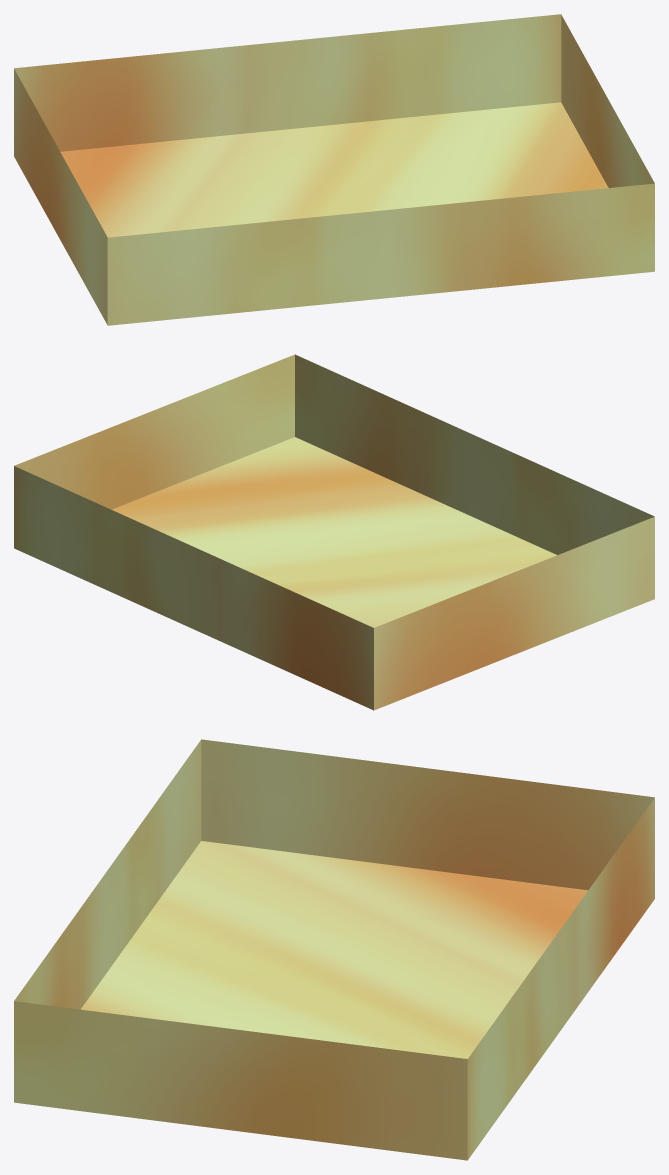
The model's file is Island_2_Block_Lat.gltf.
3 views of the same model, one above another, from view 1: azimuth 30°, elevation 25°; view 2: azimuth 150°, elevation 25°; view 3: azimuth 270°, elevation 25° (orthographic). The views are drawn at different scales.
Parts seen in each view (by area): view 1: Island_2_Block_Lat; view 2: Island_2_Block_Lat; view 3: Island_2_Block_Lat.
Part boxes in pixels (box(x1,y1,x2,y2)): Island_2_Block_Lat: box(14, 14, 654, 325); Island_2_Block_Lat: box(14, 354, 654, 710); Island_2_Block_Lat: box(14, 739, 654, 1160).
Size of the model in its own units: 9.5 by 1.41 by 8.05.
1 material, 1 textured.
